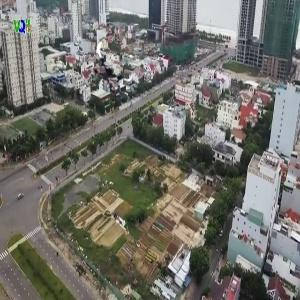drone: (87, 47, 137, 97)
